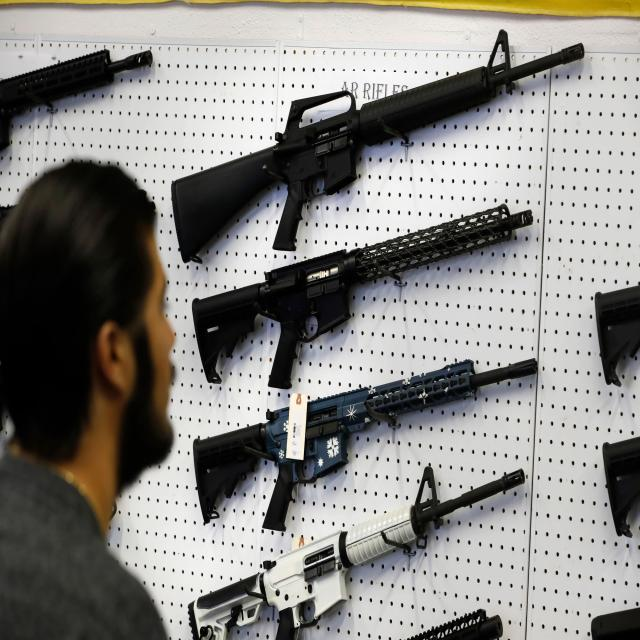Rifle: (172, 32, 587, 264), (192, 206, 536, 392), (194, 360, 539, 535), (190, 467, 527, 640)
